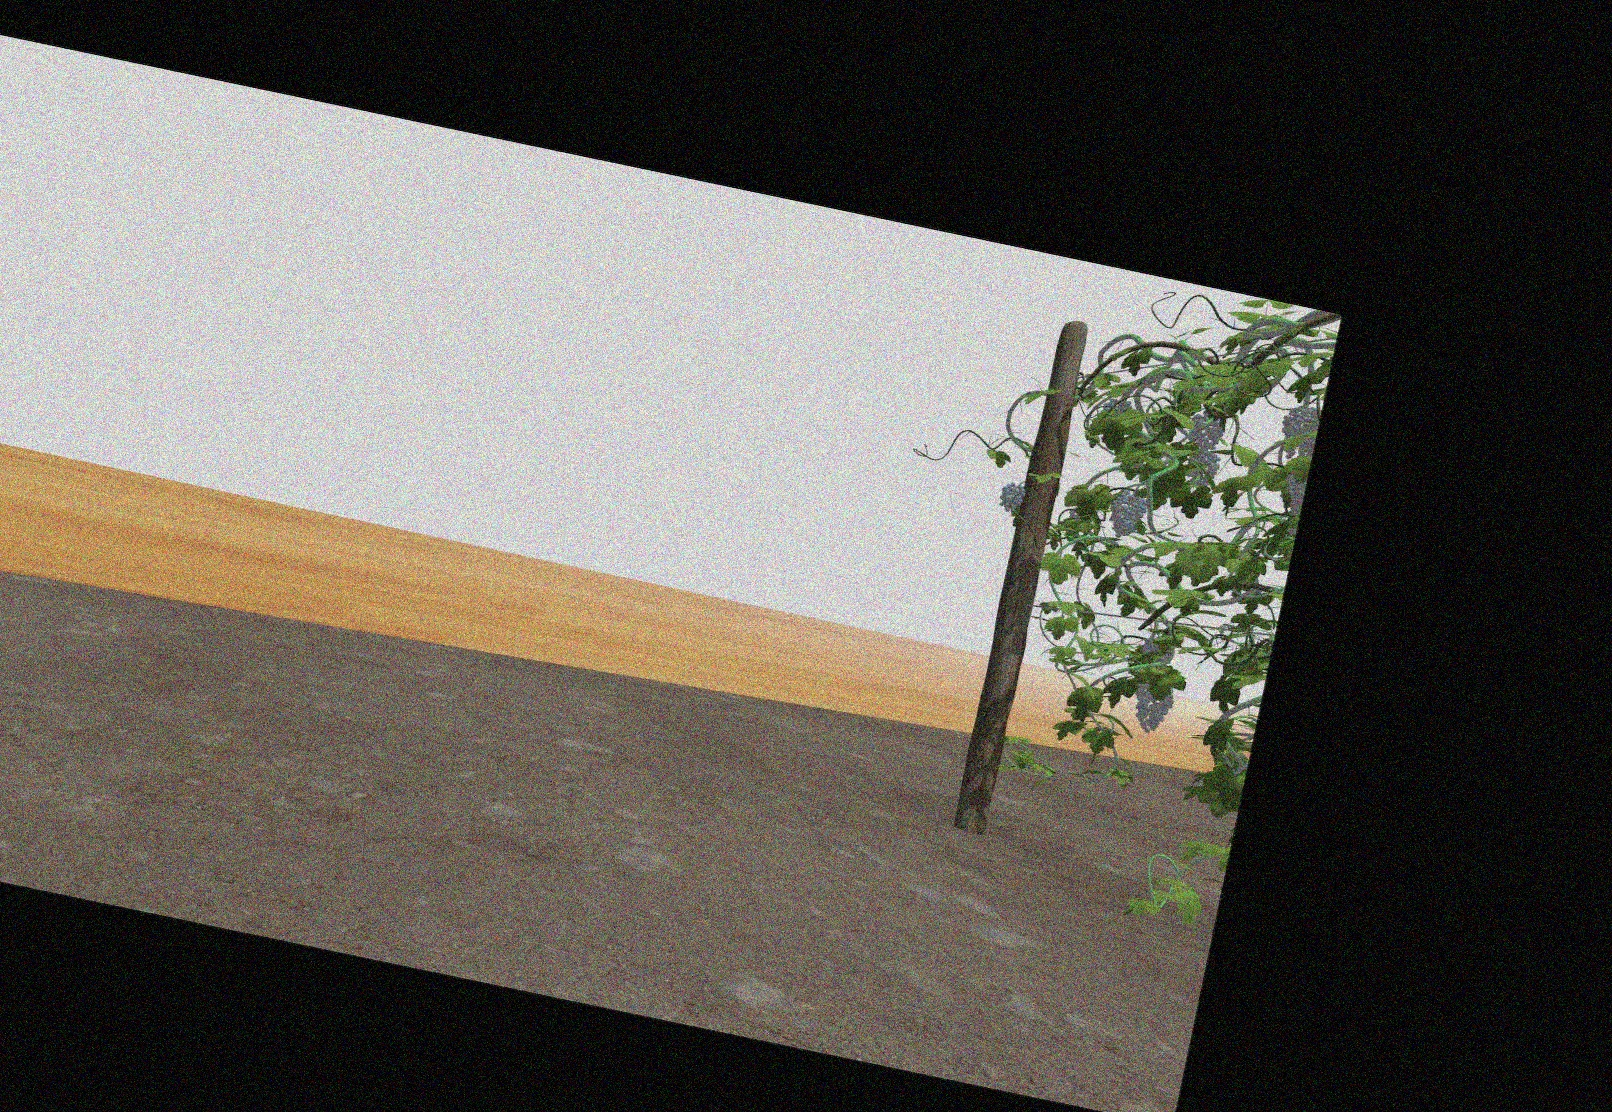grape: (1134, 680, 1171, 734), (1109, 491, 1147, 538), (1280, 407, 1314, 458), (1189, 411, 1222, 453), (1186, 451, 1220, 486), (1000, 483, 1024, 509)
